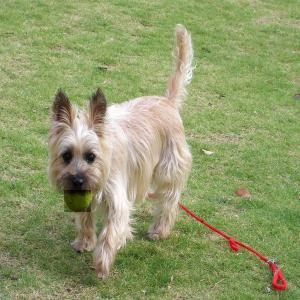TennisBall: (65, 191, 93, 214)
